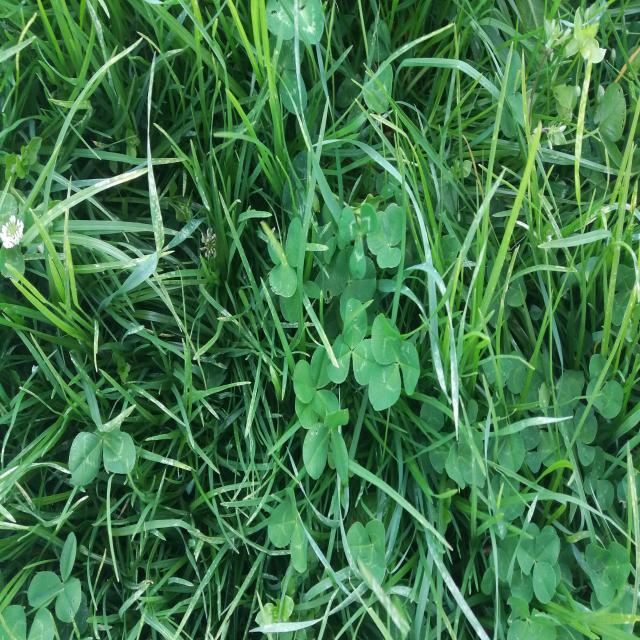Four Leaf Clover: (293, 346, 339, 430), (171, 317, 223, 391), (346, 387, 386, 447), (315, 329, 358, 383)
